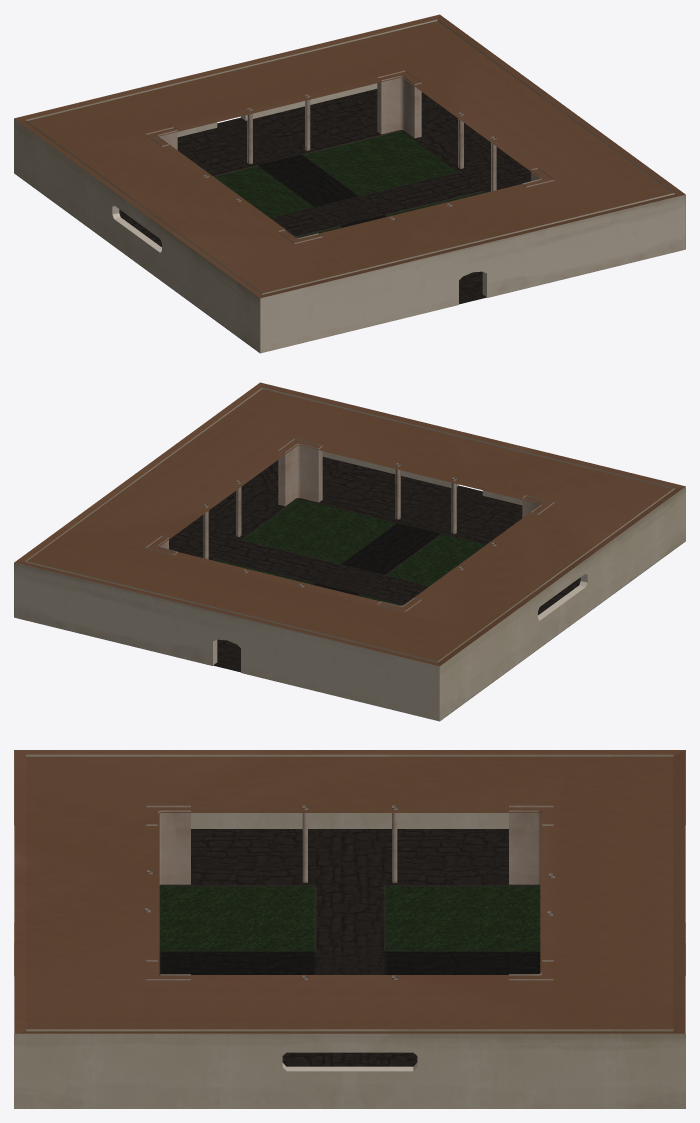
The model's file is Patio.fbx.
3 views of the same model, one above another, from view 1: azimuth 30°, elevation 25°; view 2: azimuth 150°, elevation 25°; view 3: azimuth 270°, elevation 25° (orthographic). The views are drawn at different scales.
Parts seen in each view (by area): view 1: TetoMapa, ParedeMapa, ChaoMapa, PilarPonta, Pilastra; view 2: TetoMapa, ParedeMapa, ChaoMapa, PilarPonta, Pilastra; view 3: TetoMapa, ParedeMapa, ChaoMapa, PilarPonta, Pilastra.
Boxes of the visible parts, <box> form: TetoMapa: <box>14,14,685,298</box>; ParedeMapa: <box>14,14,685,353</box>; ChaoMapa: <box>17,89,530,348</box>; PilarPonta: <box>145,70,554,243</box>; Pilastra: <box>203,94,496,220</box>; TetoMapa: <box>14,382,685,666</box>; ParedeMapa: <box>14,382,685,721</box>; ChaoMapa: <box>169,457,682,716</box>; PilarPonta: <box>145,438,554,611</box>; Pilastra: <box>203,463,496,587</box>; TetoMapa: <box>14,750,685,1033</box>; ParedeMapa: <box>14,750,685,1108</box>; ChaoMapa: <box>159,829,540,1066</box>; PilarPonta: <box>146,805,553,980</box>; Pilastra: <box>145,805,554,979</box>.
Size of the model in its own units: 6011 by 745 by 6014.
